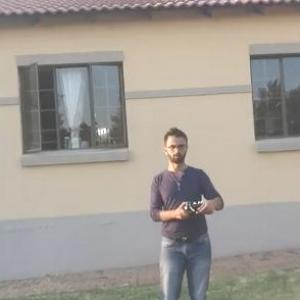follow: (143, 119, 234, 299)
